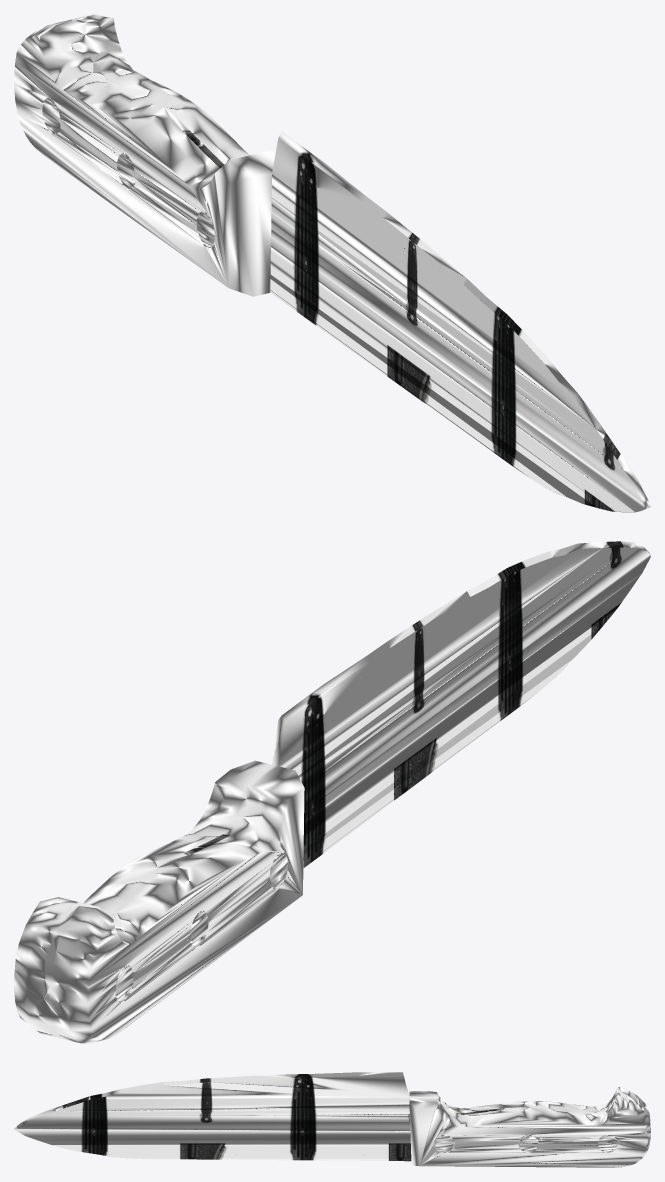
File: model_align.obj
3 renders of one model, top to bottom at view 1: azimuth 30°, elevation 25°; view 2: azimuth 150°, elevation 25°; view 3: azimuth 270°, elevation 25°, orthographic. The views are drawn at different scales.
Bounding box in the file's own units: 0.0156 × 0.0343 × 0.2206.
